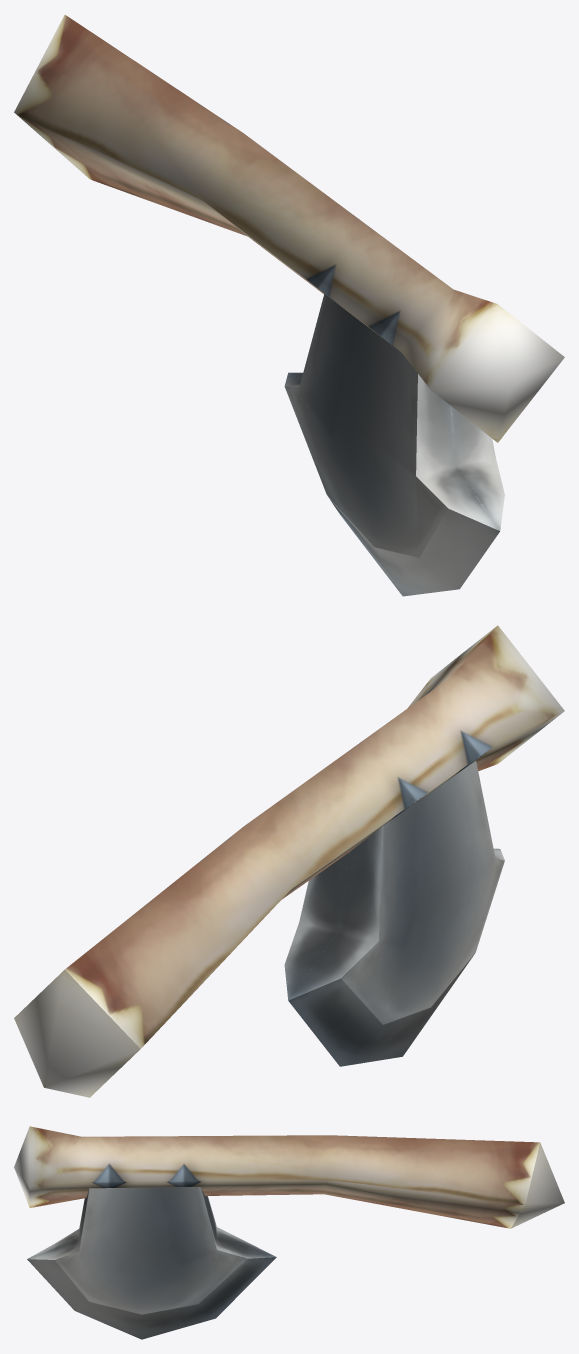
File: Axe01.FBX
3 views of the same model, one above another, from view 1: azimuth 30°, elevation 25°; view 2: azimuth 150°, elevation 25°; view 3: azimuth 270°, elevation 25° (orthographic). The views are drawn at different scales.
Visible parts, largest first — view 1: Box05; view 2: Box05; view 3: Box05.
Boxes of the visible parts, box(x1,y1,x2,y2) form: Box05: box(14, 15, 564, 596); Box05: box(14, 625, 564, 1097); Box05: box(14, 1126, 564, 1339).
Bounding box in the file's own units: 16.02 × 41.3 × 96.63.
Materials: 1 (1 with a texture image).
